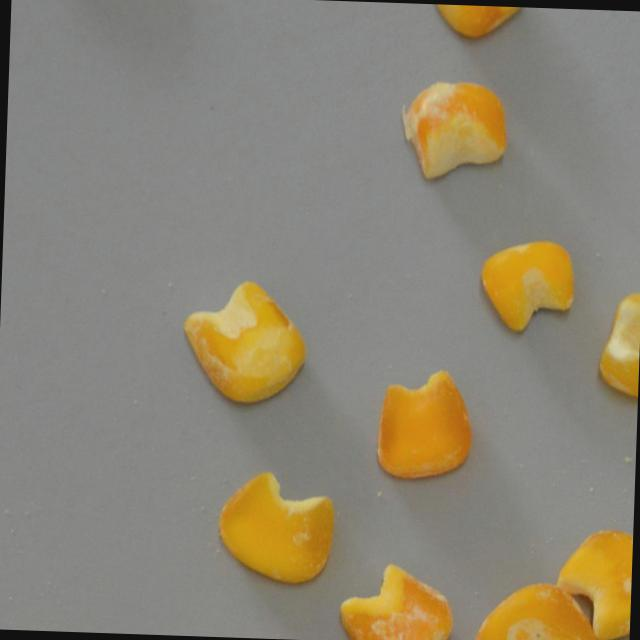no_canjicado: (479, 237, 577, 335)
pelicula: (184, 277, 307, 404), (216, 467, 337, 586), (373, 365, 475, 483), (402, 76, 511, 182), (339, 559, 457, 640), (554, 526, 633, 640), (473, 579, 603, 640), (596, 291, 640, 396)
